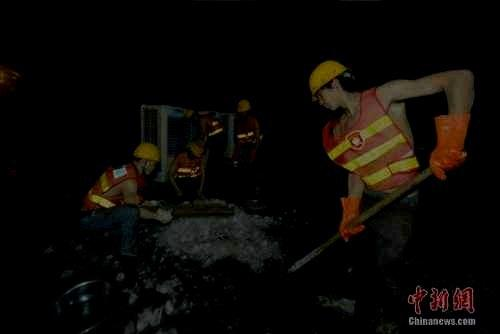helmet: (309, 59, 358, 110), (132, 141, 161, 176), (190, 142, 204, 160), (237, 100, 251, 114)
